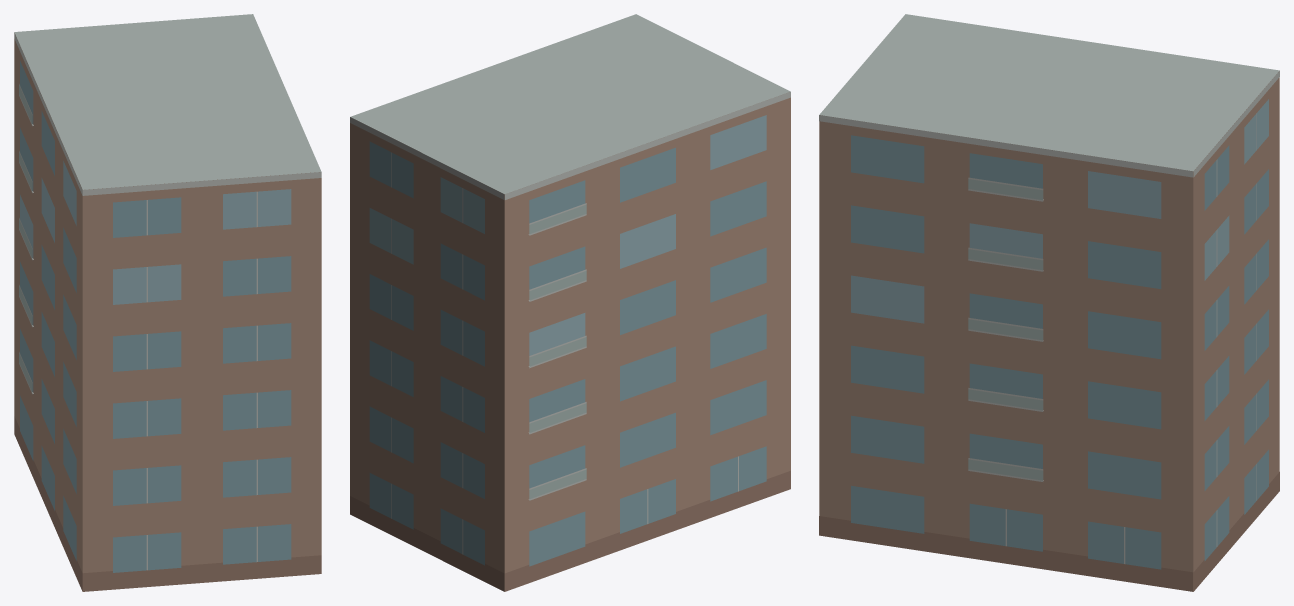
Rendered from survey-upis-32854272.glb.
3 views of the same model, side by side, from view 1: azimuth 30°, elevation 25°; view 2: azimuth 150°, elevation 25°; view 3: azimuth 270°, elevation 25° (orthographic). The views are drawn at different scales.
Parts seen in each view (by area): view 1: survey-upis-32854272.tmp; view 2: survey-upis-32854272.tmp; view 3: survey-upis-32854272.tmp.
Part boxes in pixels (bbox=[...]): survey-upis-32854272.tmp: bbox=[14, 14, 321, 591]; survey-upis-32854272.tmp: bbox=[350, 14, 790, 591]; survey-upis-32854272.tmp: bbox=[819, 14, 1279, 591].
Bounding box in the file's own units: 13.06 × 16.27 × 16.16.
